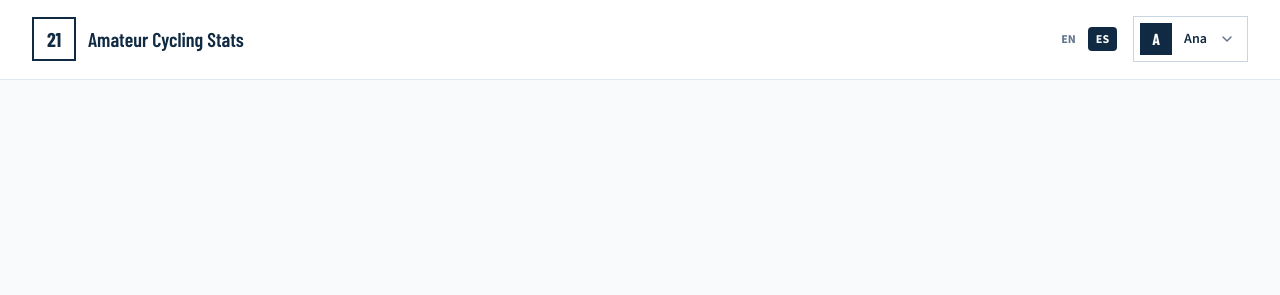
Test: SiteHeader › links an authenticated user to the role-aware panel route
Check: the link "Ir al panel" is not shown
Click the button with aria-label "Abrir menú de Ana". click: (1191, 39)
box: [1133, 16, 1248, 62]
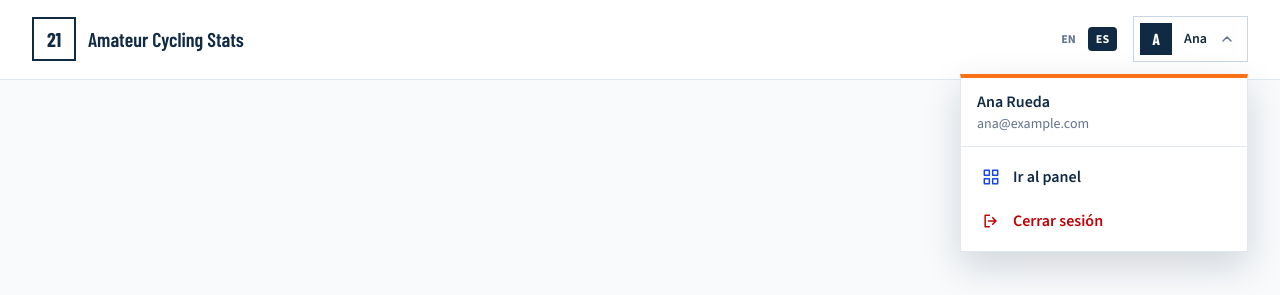
Check: the button "Cerrar sesión" is shown, box [969, 199, 1239, 243]
